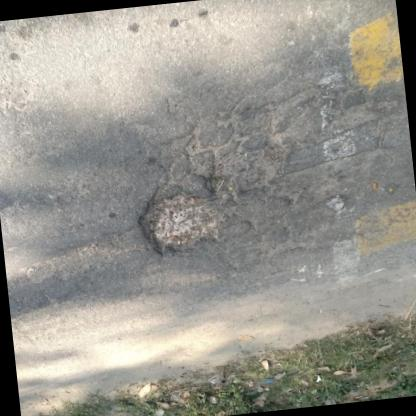pothole: (130, 186, 232, 262), (200, 140, 294, 198)
